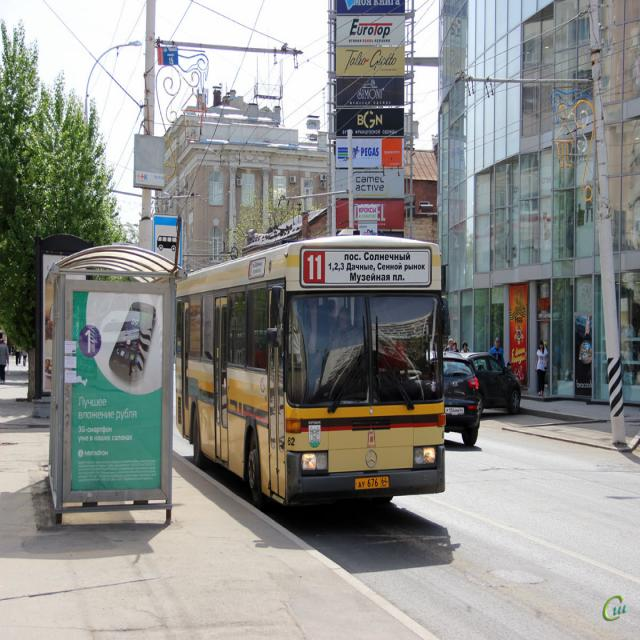number-of-bus: (307, 253, 325, 284)
